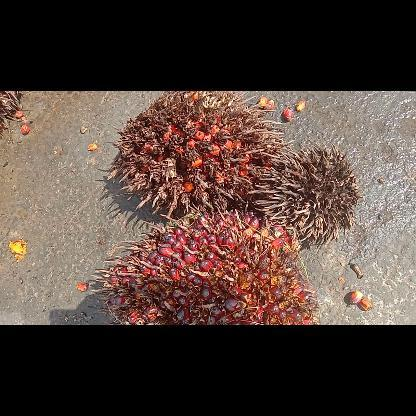Janjang kosong: (248, 140, 360, 242)
TBS masak: (94, 204, 318, 324)
Terlalu masak: (107, 91, 287, 219)
